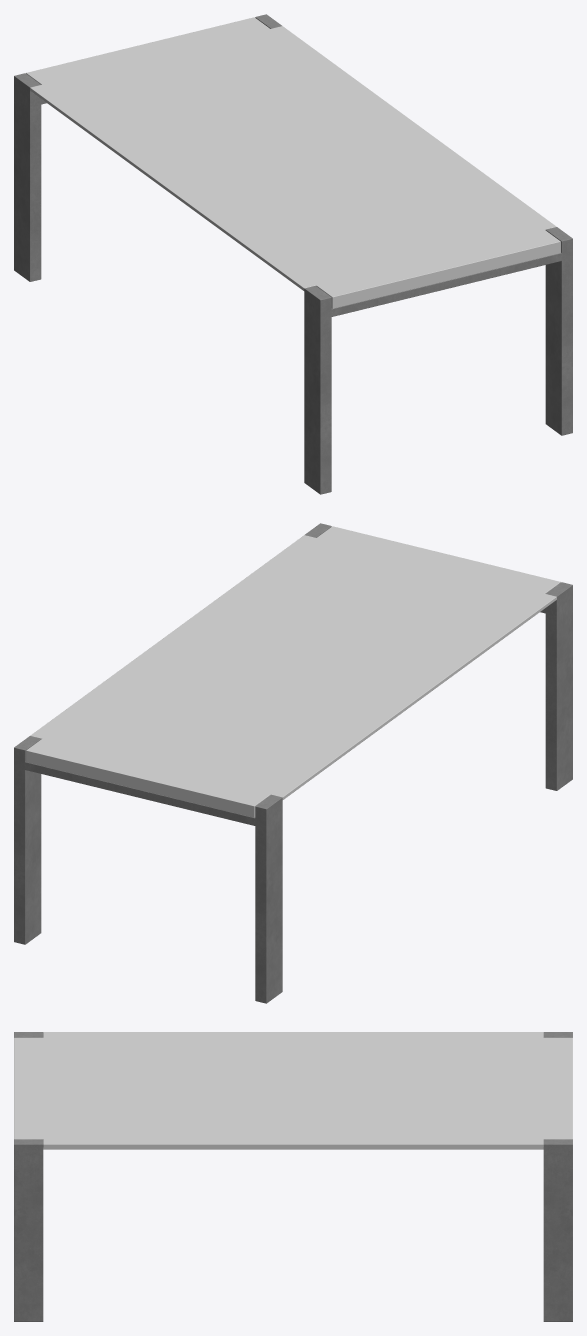
Rendered from Dining Table.fbx.
3 views of the same model, one above another, from view 1: azimuth 30°, elevation 25°; view 2: azimuth 150°, elevation 25°; view 3: azimuth 270°, elevation 25° (orthographic). The views are drawn at different scales.
Parts seen in each view (by area): view 1: Cube, Cube.001; view 2: Cube, Cube.001; view 3: Cube, Cube.001.
Part boxes in pixels (x1,y1,x2,y2): Cube: [26, 17, 560, 308]; Cube.001: [14, 14, 572, 494]; Cube: [26, 526, 560, 817]; Cube.001: [14, 523, 572, 1003]; Cube: [14, 1032, 572, 1149]; Cube.001: [14, 1032, 572, 1321].
Size of the model in its own units: 102 by 75.01 by 214.
2 materials, 1 textured.
